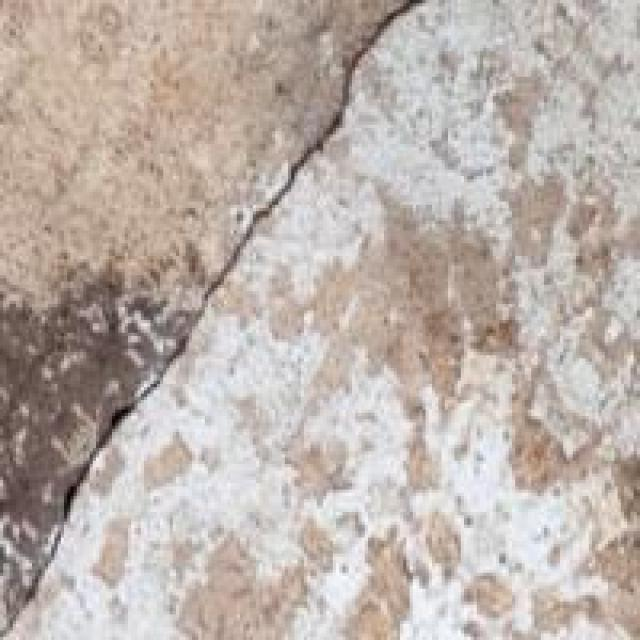Crack: (11, 14, 402, 581)
